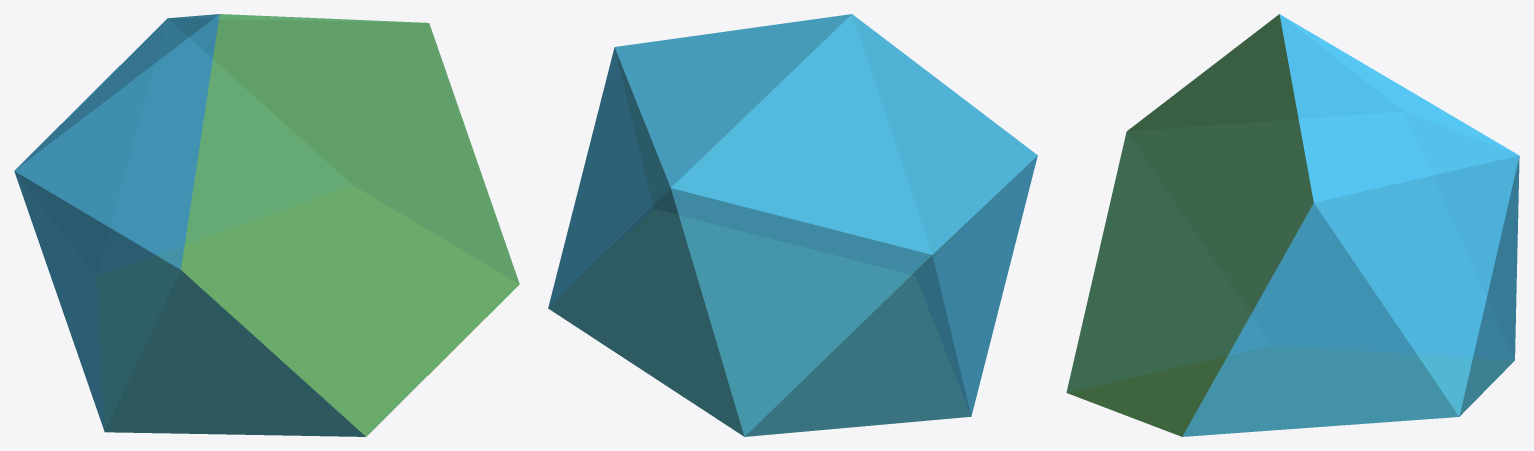
Rendered from j62_metabidiminished_icosahedron.obj.
3 renders of one model, left to right at view 1: azimuth 30°, elevation 25°; view 2: azimuth 150°, elevation 25°; view 3: azimuth 270°, elevation 25°, orthographic. The views are drawn at different scales.
Size of the model in its own units: 1.74 by 1.63 by 1.71.
